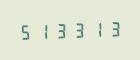five: (17, 21, 33, 41)
one: (34, 21, 50, 40), (86, 19, 102, 38)
three: (52, 20, 68, 40), (103, 18, 119, 38), (69, 20, 85, 39)
